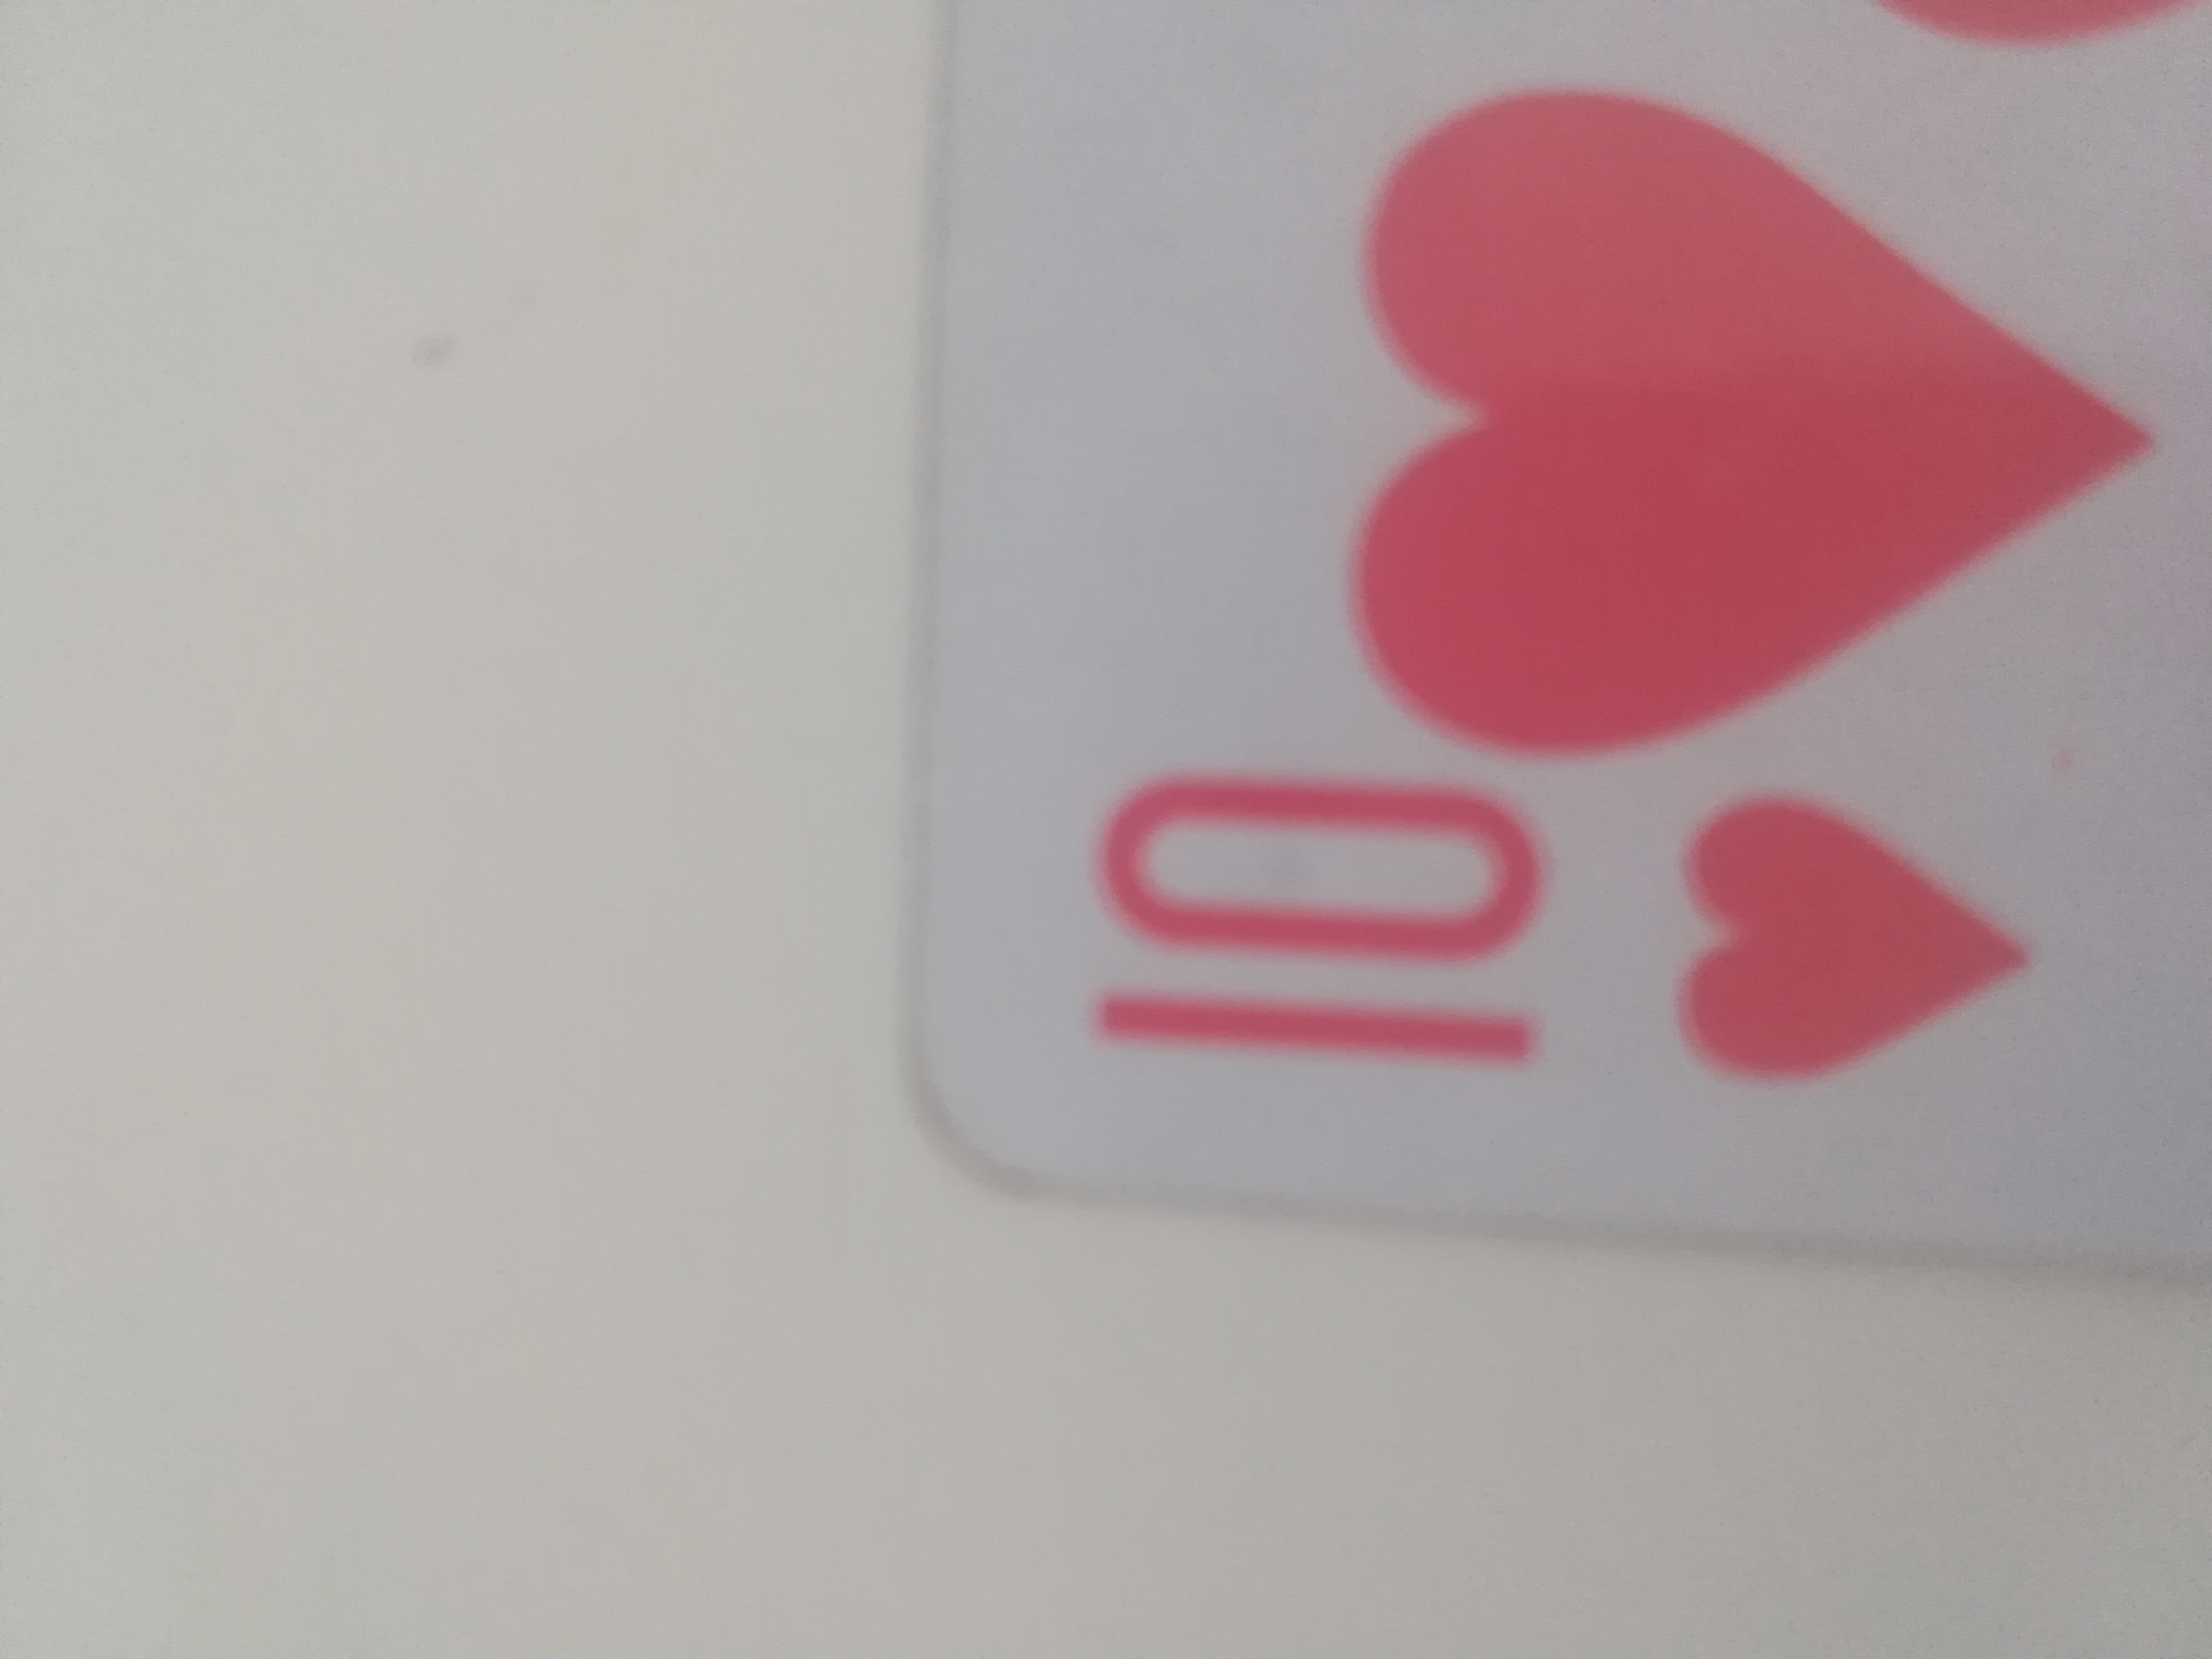10H: (876, 0, 2203, 1265)
